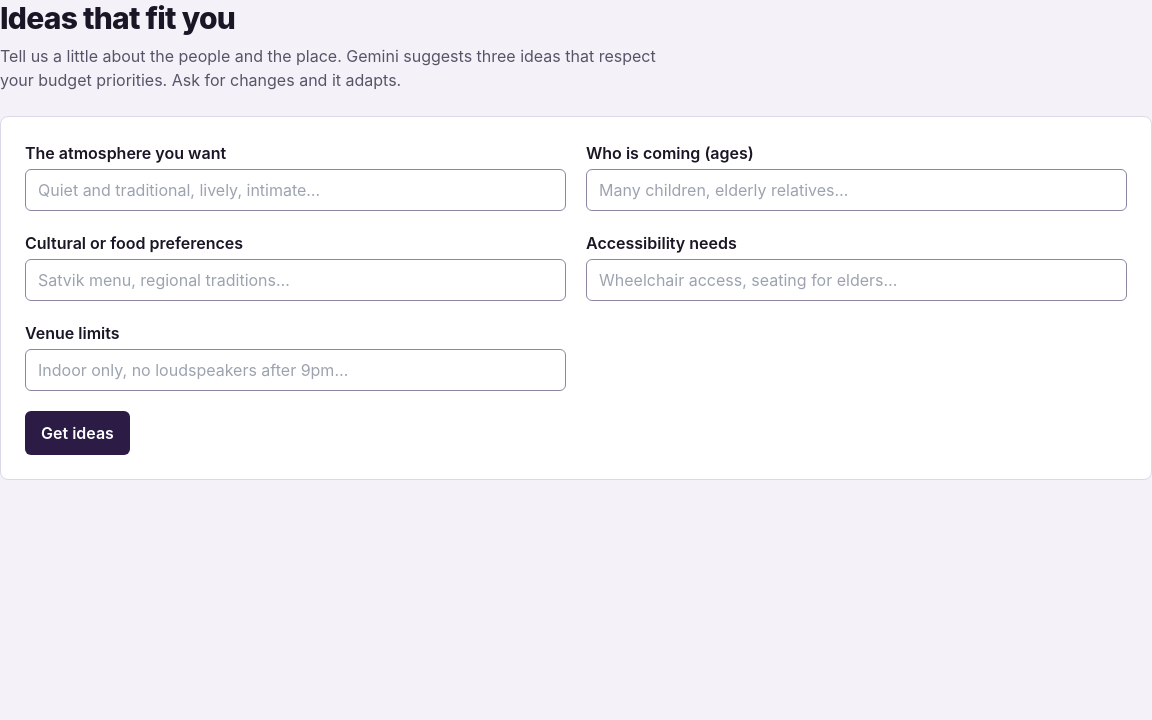
it: axe audit: states that appear after the user acts › AI-generated ideas
The width and height of the screenshot is (1152, 720).
Click the button "Get ideas". click: coordinates (77, 433)
box: [25,411,130,455]
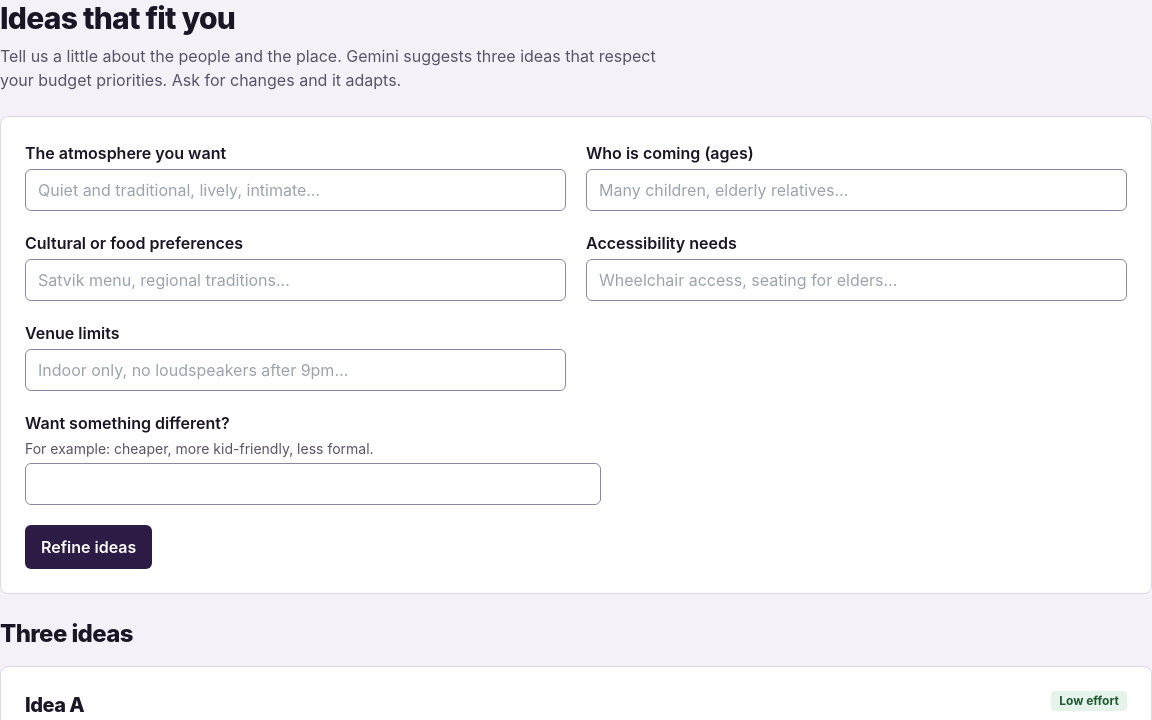
expect the heading "Idea A" is shown: met, box [25,691,84,719]
